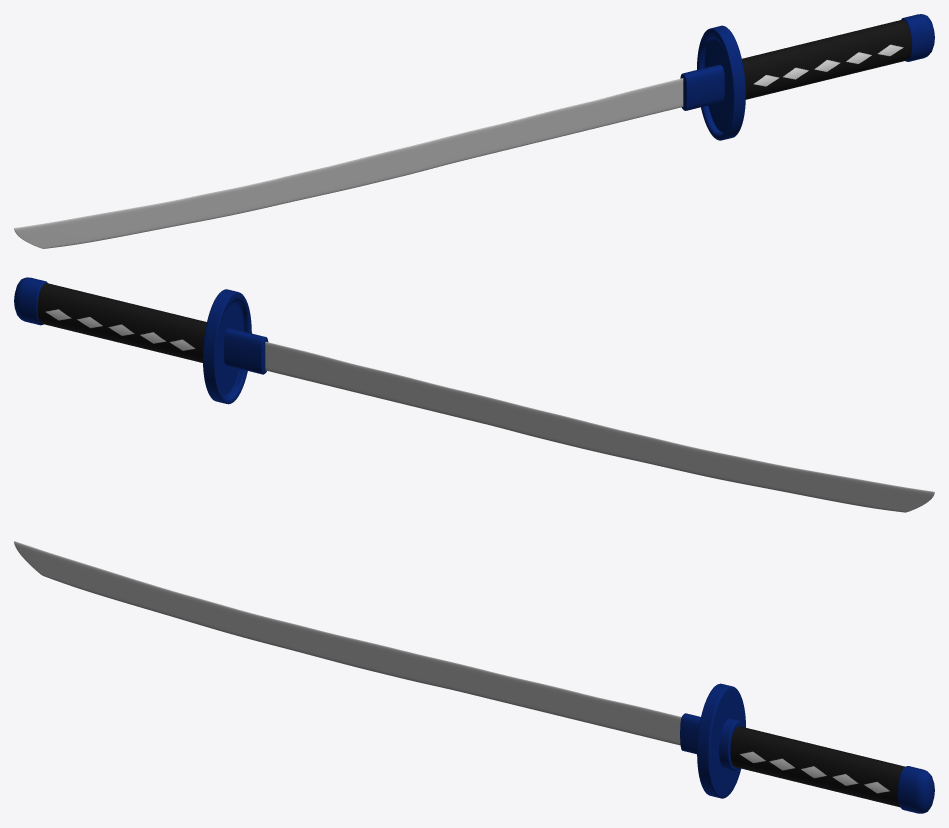
The model's file is Katana.fbx.
The picture shows the model from 3 angles, top to bottom: view 1: azimuth 30°, elevation 25°; view 2: azimuth 150°, elevation 25°; view 3: azimuth 330°, elevation 25°; orthographic projection.
Visible parts, largest first — view 1: pCube2; view 2: pCube2; view 3: pCube2.
Part boxes in pixels (x1,y1,x2,y2): pCube2: (14, 14, 934, 248); pCube2: (14, 277, 934, 512); pCube2: (14, 541, 934, 813).
Size of the model in its own units: 10.94 by 1.24 by 0.7725.
